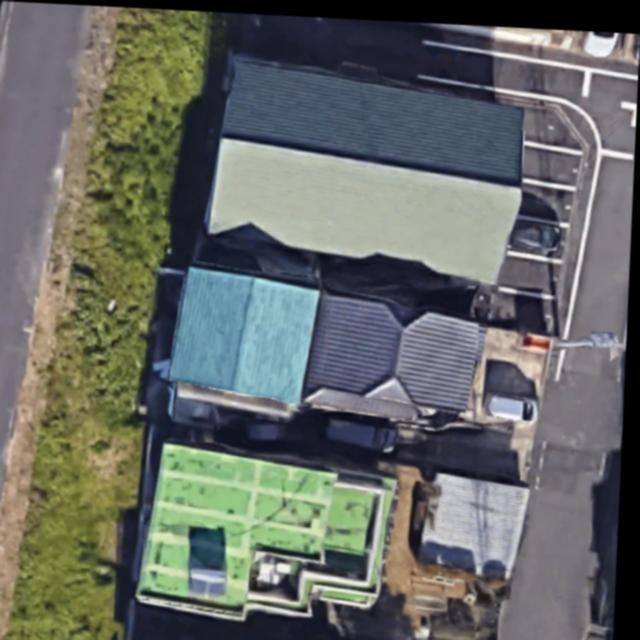Batiment: (209, 55, 524, 276), (142, 440, 399, 615), (306, 252, 488, 414), (173, 263, 321, 399), (425, 467, 533, 571)
